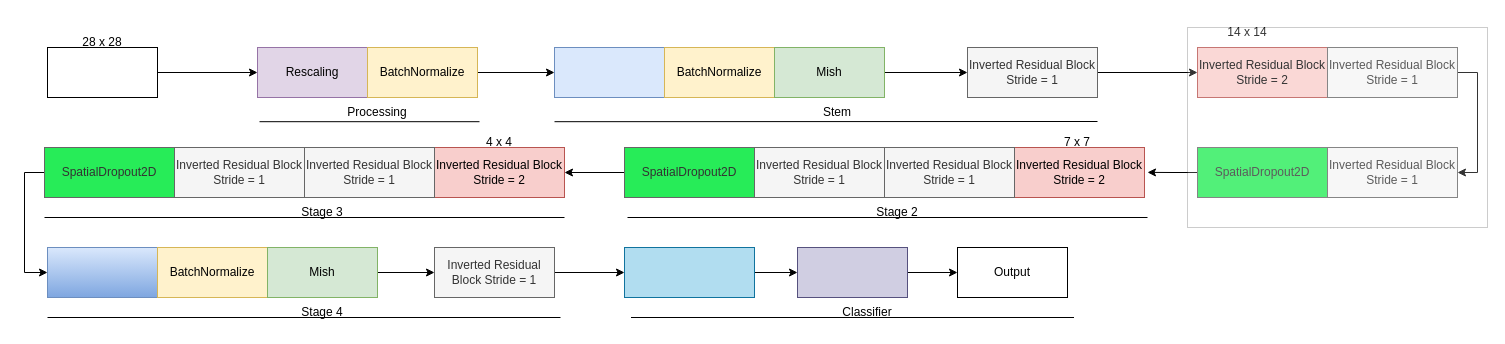
This 1505x344 diagram has some shape labels left out. The shapes that lost their labels are listed below. From the top down, each one's box as (x1, y1, x2, y2) in pixels, then its label:
(46, 46, 158, 98): Input
(554, 46, 664, 98): 3x3 Conv2D
(1186, 26, 1488, 228): Stage 1
(46, 246, 158, 298): 1x1 Conv2D
(624, 246, 754, 298): GlobalAveragePooling
(796, 246, 908, 298): Dropout
